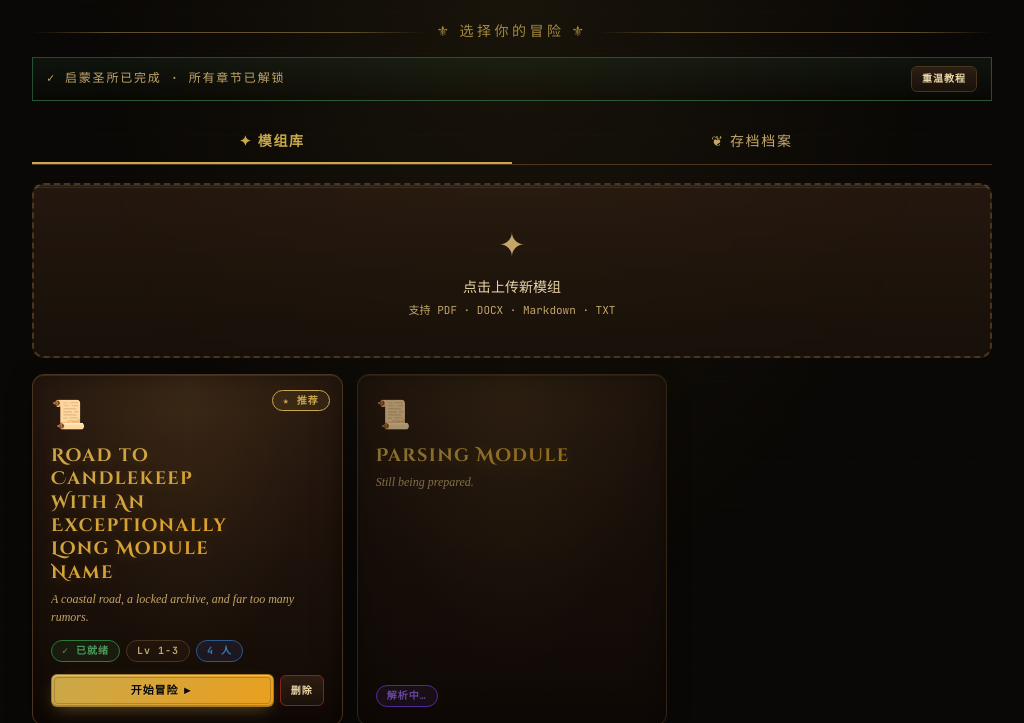
Home responsive shell › renders module delete failures inline without using a browser alert
The image size is (1024, 723).
(page scrolled)
Expected: the text "Road to Candlekeep With An Exceptionally Long Module Name" is shown, [51, 444, 324, 584]
What coordinates should you click on to do the following:
click the button with class "home-module-delete"
I would click on:
 (302, 690)
Its box is [280, 674, 324, 706].
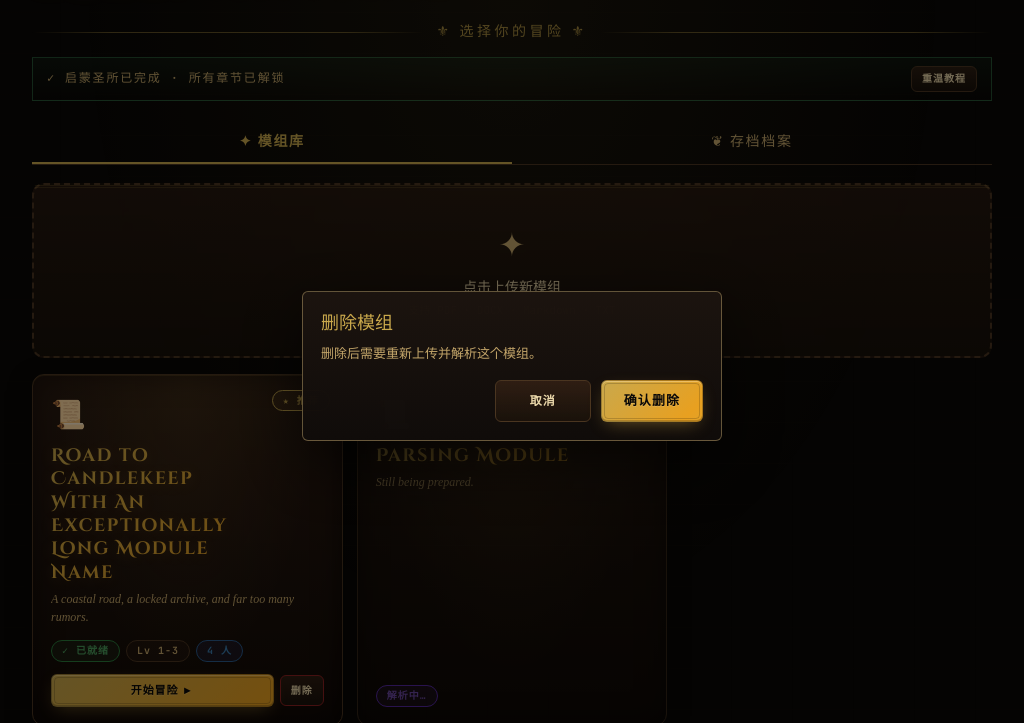
What coordinates should you click on to do the following:
click the button "确认删除"
I would click on:
 (652, 401)
Its box is [601, 380, 703, 422].
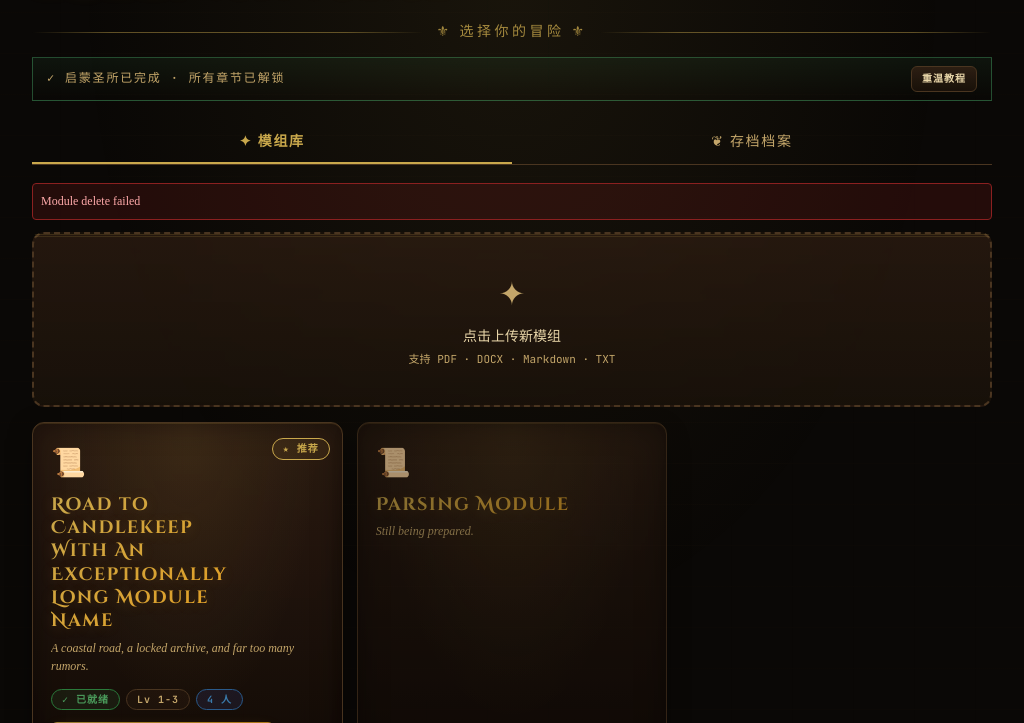
Expected: the message reads "Module delete failed", [41, 194, 140, 208]
